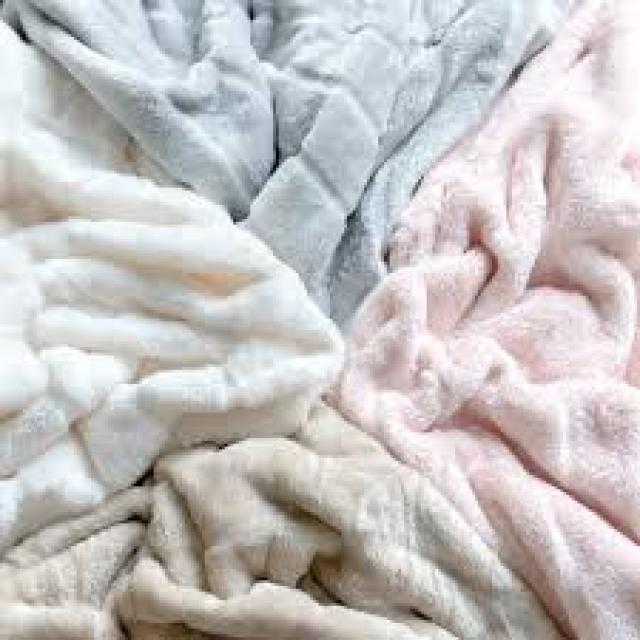blanket: (332, 1, 640, 640), (5, 3, 565, 320), (1, 407, 561, 640), (1, 125, 343, 490)
